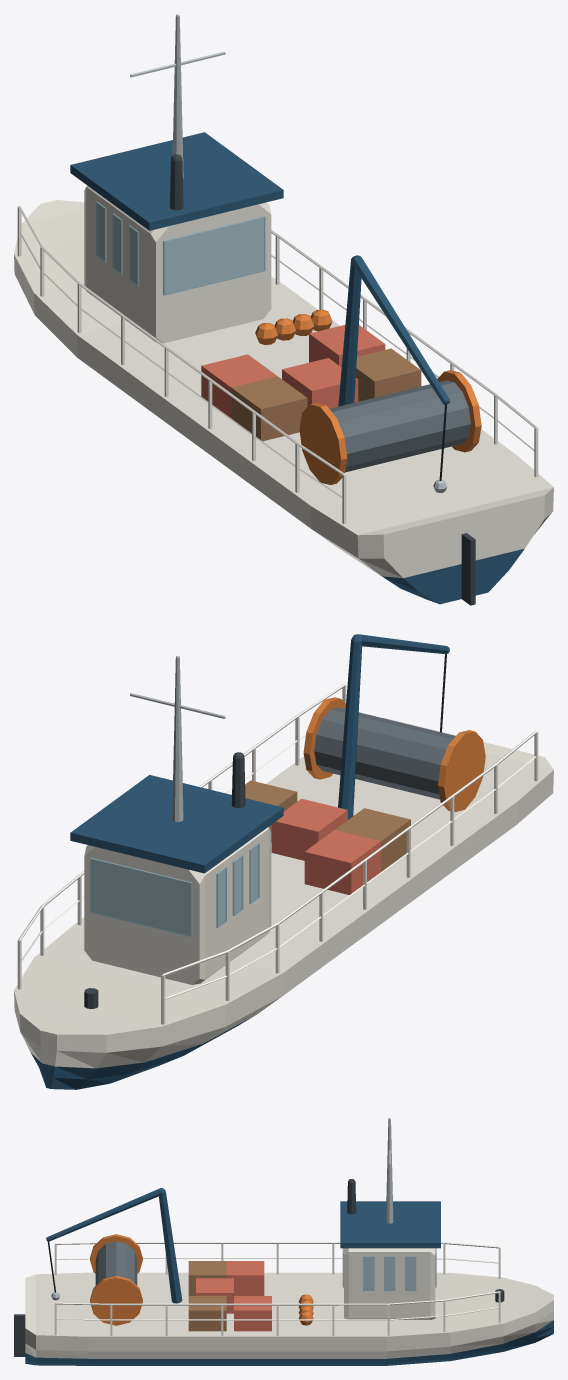
File: BOAT_01.obj
3 renders of one model, top to bottom at view 1: azimuth 30°, elevation 25°; view 2: azimuth 150°, elevation 25°; view 3: azimuth 270°, elevation 25°, orthographic. The views are drawn at different scales.
Visible parts, largest first — view 1: hull_upper, wheelhouse, net_drum, crates, wheelhouse_roof, windows, railings, gantry, hull_lower, floats, mast, rudder (+1 smaller); view 2: hull_upper, wheelhouse, wheelhouse_roof, net_drum, crates, windows, railings, gantry, hull_lower, mast, exhaust; view 3: hull_upper, wheelhouse, crates, wheelhouse_roof, railings, hull_lower, net_drum, gantry, windows, mast, rudder, floats.
Boxes of the visible parts, x1,y1,x2,y2 form: hull_upper: [14, 200, 553, 578]; wheelhouse: [84, 185, 271, 343]; net_drum: [299, 370, 481, 484]; crates: [201, 325, 421, 441]; wheelhouse_roof: [70, 132, 283, 230]; windows: [96, 201, 265, 295]; railings: [17, 206, 538, 523]; gantry: [338, 255, 449, 492]; hull_lower: [382, 548, 524, 604]; floats: [255, 309, 332, 344]; mast: [130, 14, 225, 178]; rudder: [461, 533, 475, 605]; hull_upper: [14, 717, 553, 1068]; wheelhouse: [84, 827, 271, 984]; wheelhouse_roof: [70, 775, 283, 873]; net_drum: [303, 697, 485, 812]; crates: [231, 780, 410, 894]; windows: [90, 843, 259, 937]; railings: [17, 684, 538, 1024]; gantry: [338, 634, 449, 819]; hull_lower: [31, 1014, 256, 1089]; mast: [130, 656, 225, 821]; exhaust: [231, 752, 245, 808]; hull_upper: [25, 1272, 553, 1358]; wheelhouse: [344, 1248, 435, 1319]; crates: [188, 1261, 271, 1331]; wheelhouse_roof: [340, 1201, 440, 1248]; railings: [54, 1242, 500, 1335]; hull_lower: [25, 1320, 553, 1365]; net_drum: [90, 1234, 142, 1325]; gantry: [46, 1188, 182, 1303]; windows: [342, 1248, 436, 1290]; mast: [386, 1118, 393, 1223]; rudder: [14, 1314, 25, 1356]; floats: [298, 1294, 313, 1325].
Bounding box in the file's own units: 4 × 6.93 × 14.23.
